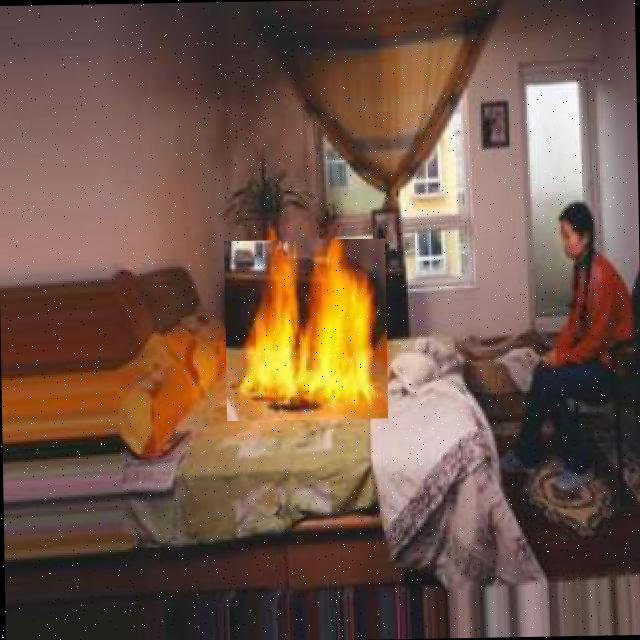fire: (224, 238, 388, 421)
